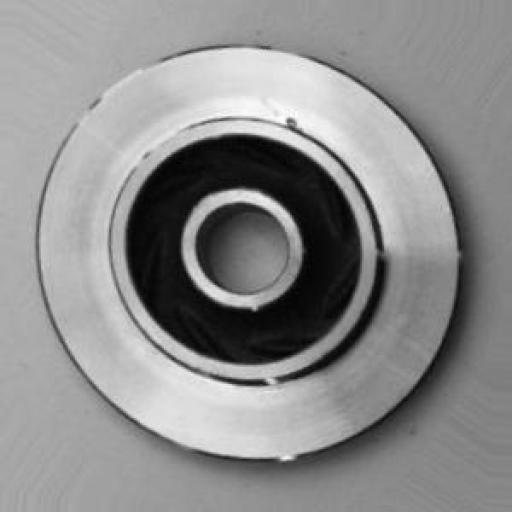defect: (194, 61, 336, 149)
